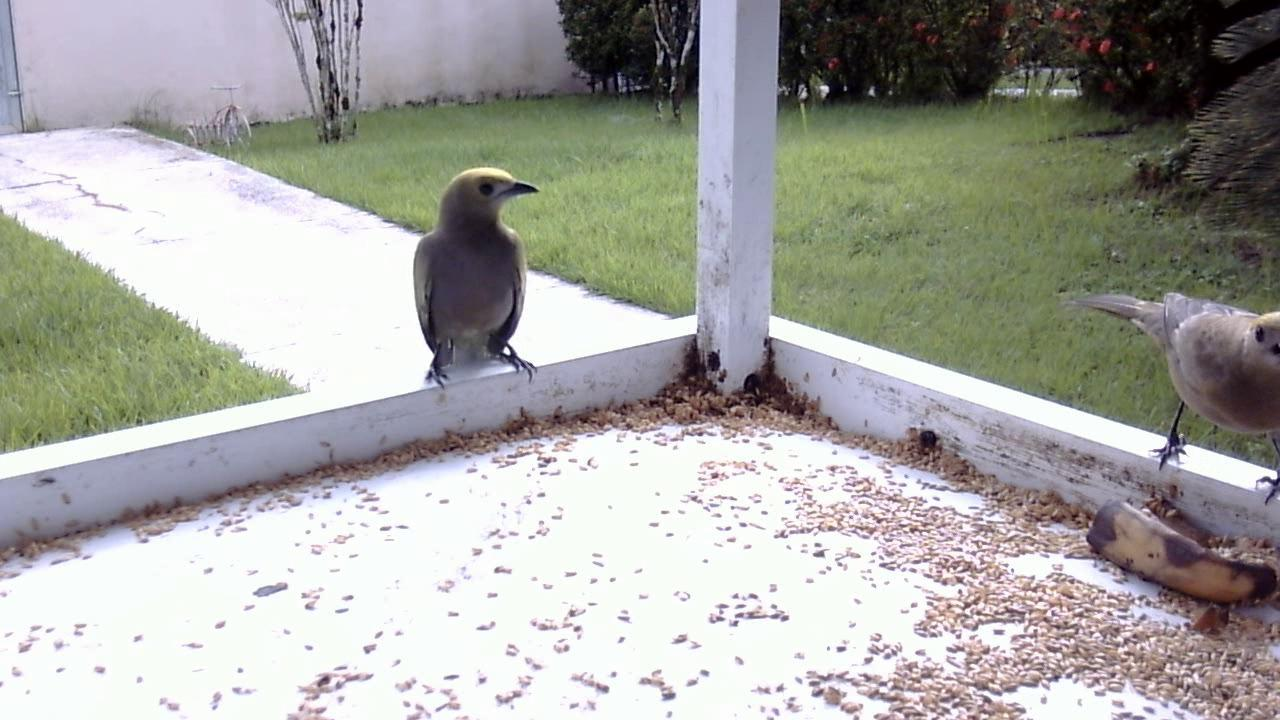sanhaco_do_coqueiro: (1065, 274, 1280, 518), (405, 160, 545, 393)
